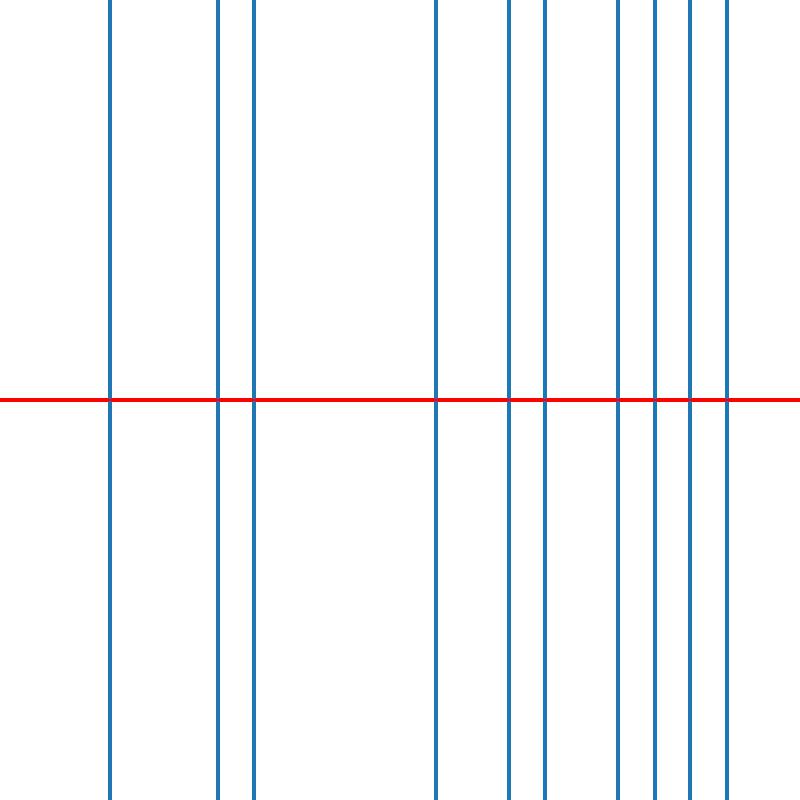root: (432, 396, 440, 404), (541, 396, 549, 404), (650, 396, 658, 404), (250, 396, 258, 404), (723, 396, 730, 404), (505, 396, 512, 404), (687, 396, 694, 404), (614, 396, 621, 404), (214, 396, 221, 404), (105, 396, 112, 404)
